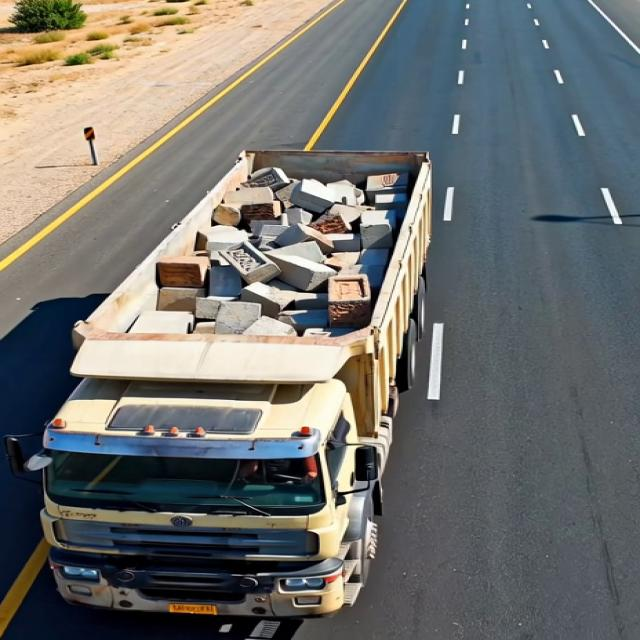Box: (45, 139, 438, 383)
Truck: (31, 114, 483, 610)
